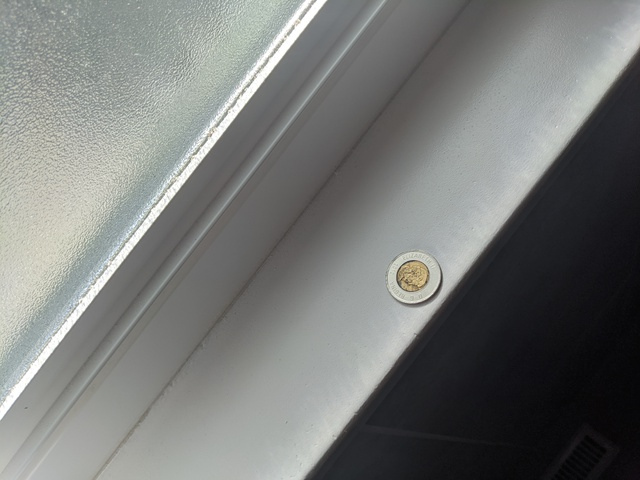twonie: (384, 251, 442, 302)
